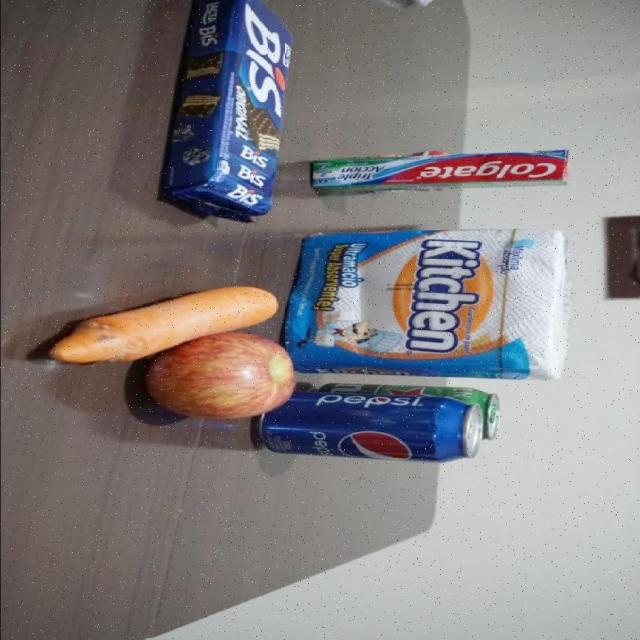Apple: (143, 341, 292, 420)
Carrot: (49, 286, 282, 336)
Napkin: (295, 228, 571, 379)
SodaCan: (264, 398, 478, 462)
Toothpaste: (311, 149, 566, 196)
